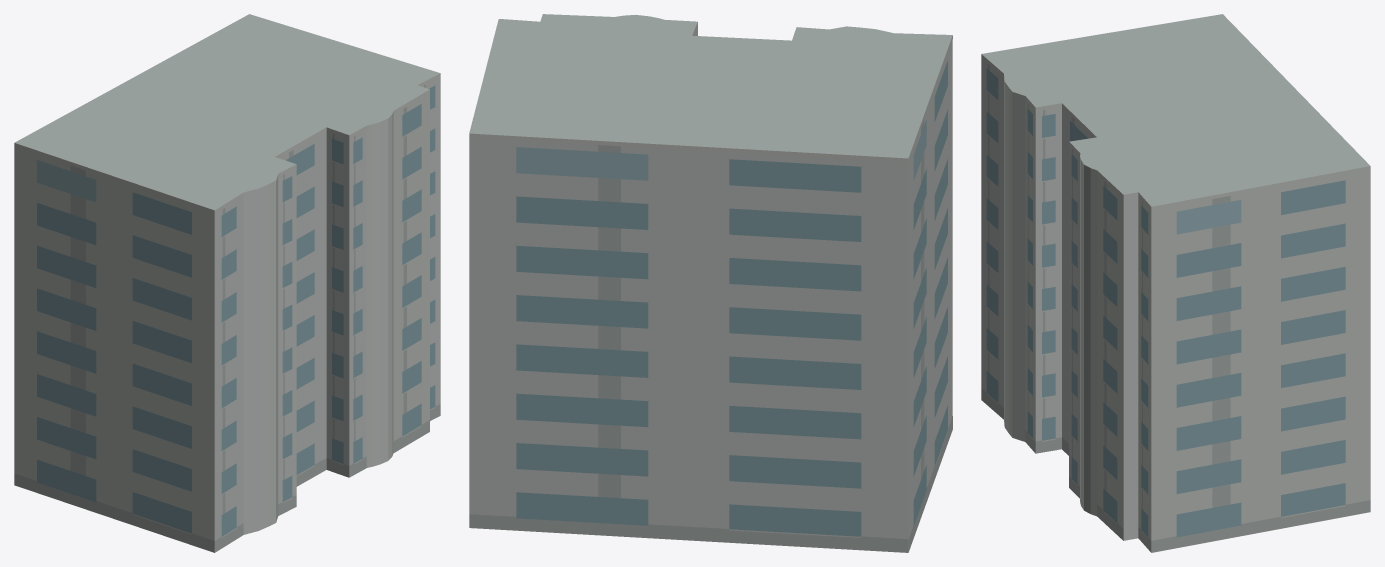
The model's file is survey-upis-33014702.glb.
The picture shows the model from 3 angles, left to right: view 1: azimuth 30°, elevation 25°; view 2: azimuth 150°, elevation 25°; view 3: azimuth 270°, elevation 25°; orthographic projection. The views are drawn at different scales.
Visible parts, largest first — view 1: survey-upis-33014702.tmp; view 2: survey-upis-33014702.tmp; view 3: survey-upis-33014702.tmp.
Part boxes in pixels (x1,y1,x2,y2): survey-upis-33014702.tmp: (14,14,440,552); survey-upis-33014702.tmp: (469,14,952,552); survey-upis-33014702.tmp: (981,14,1370,552).
Bounding box in the file's own units: 27.37 × 22.9 × 23.35.
